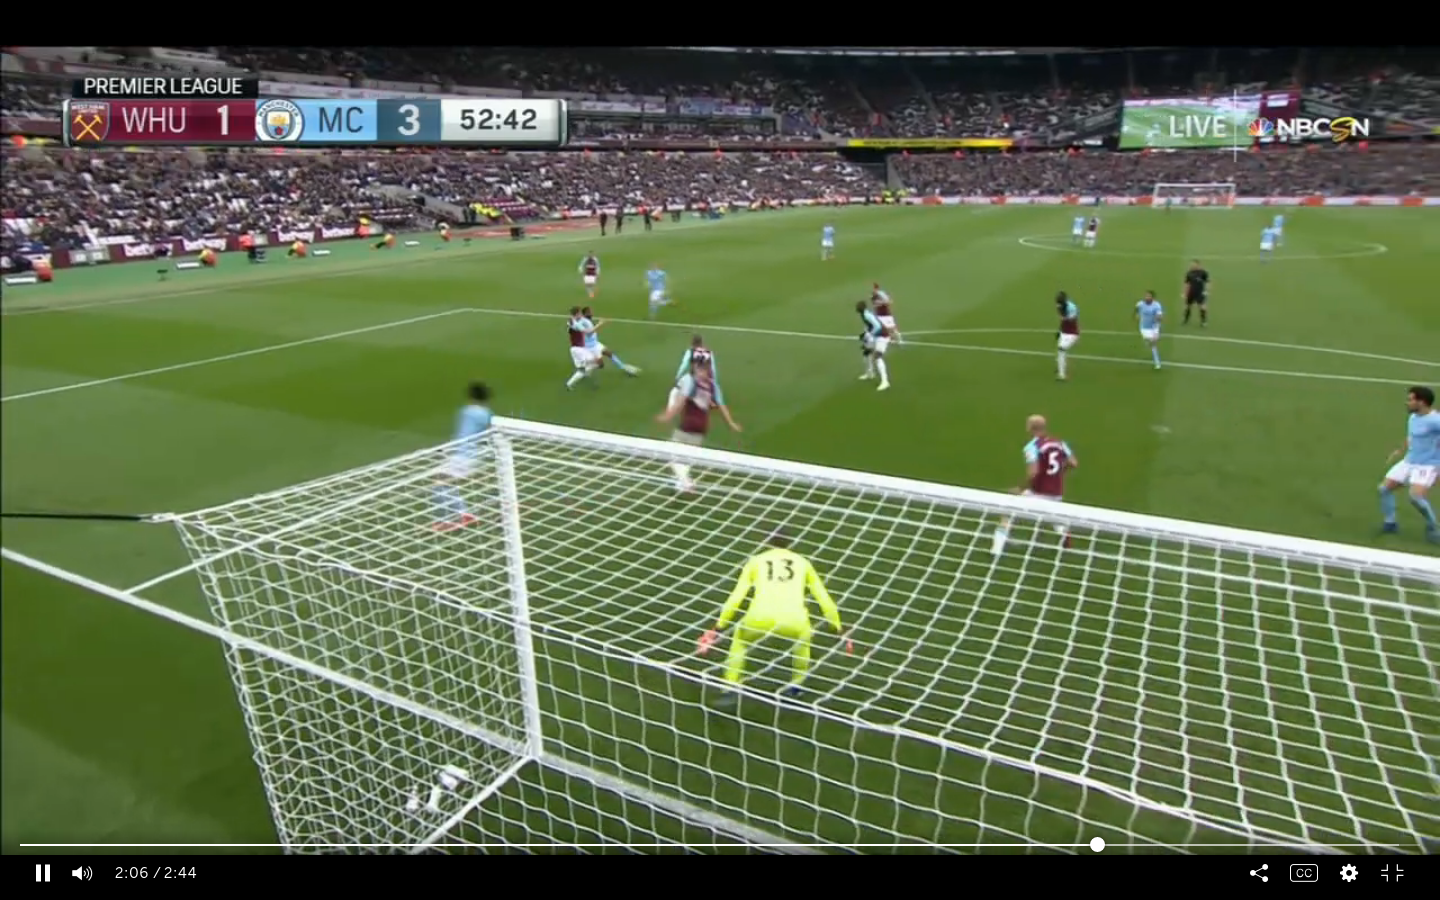referee: (1179, 256, 1210, 331)
soccer player: (685, 525, 859, 708), (987, 400, 1082, 563), (1368, 386, 1440, 544), (658, 362, 739, 488), (850, 299, 888, 396), (1047, 285, 1082, 382), (1133, 285, 1167, 374), (561, 305, 590, 392), (644, 259, 675, 323), (576, 249, 602, 308)
